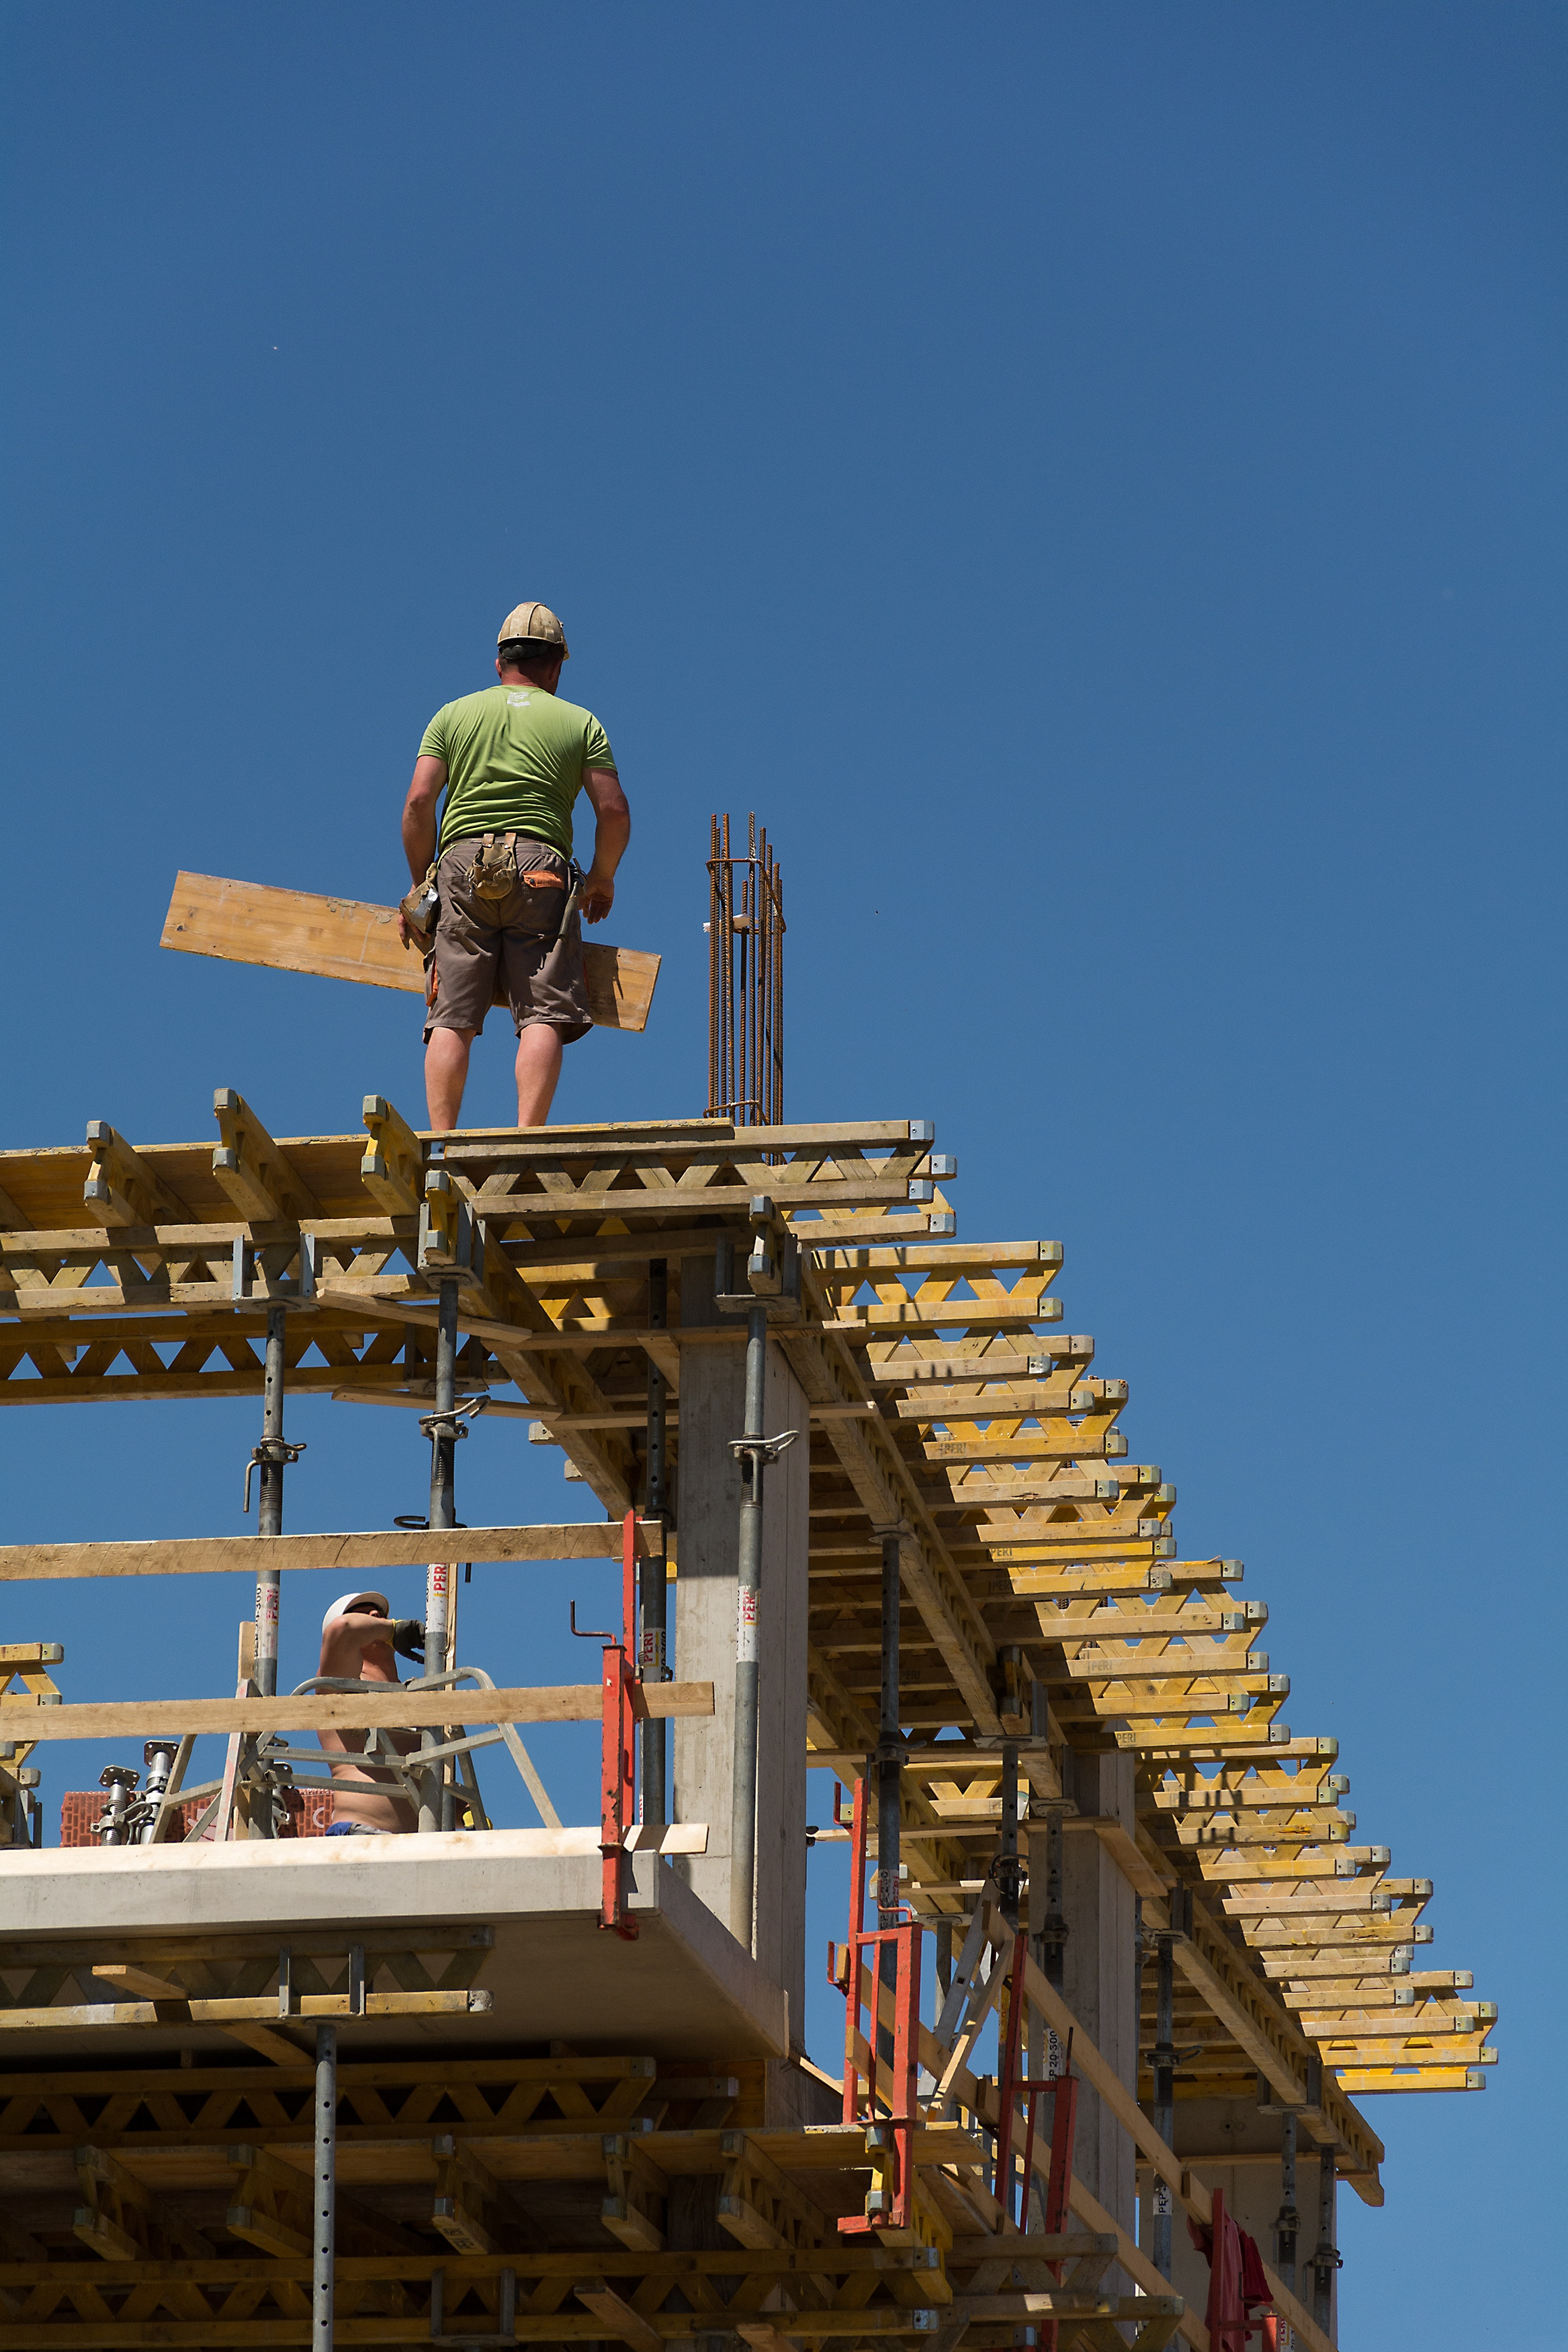white: (320, 1591, 403, 1666)
yellow: (492, 600, 567, 689)
